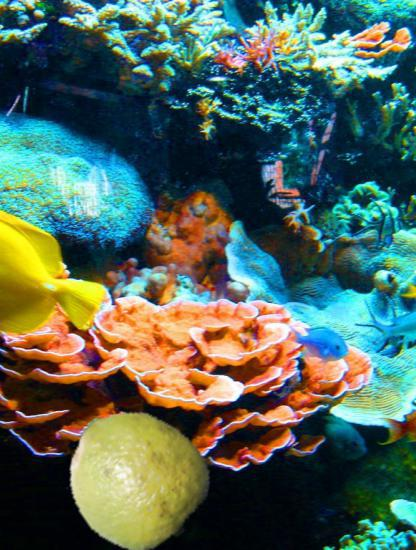Limes: (65, 405, 209, 549)
